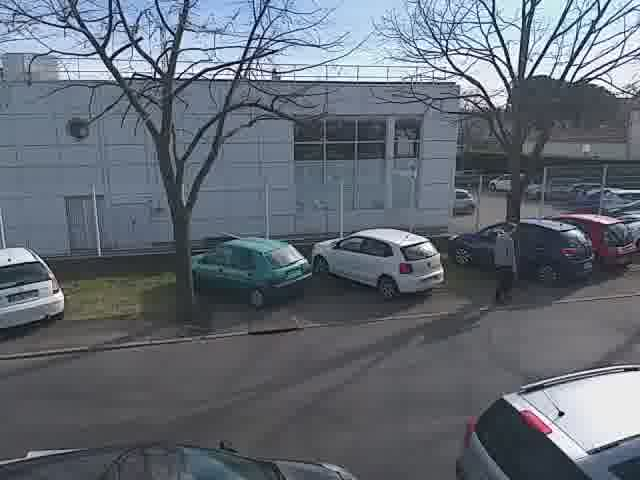persona: (486, 214, 525, 307)
